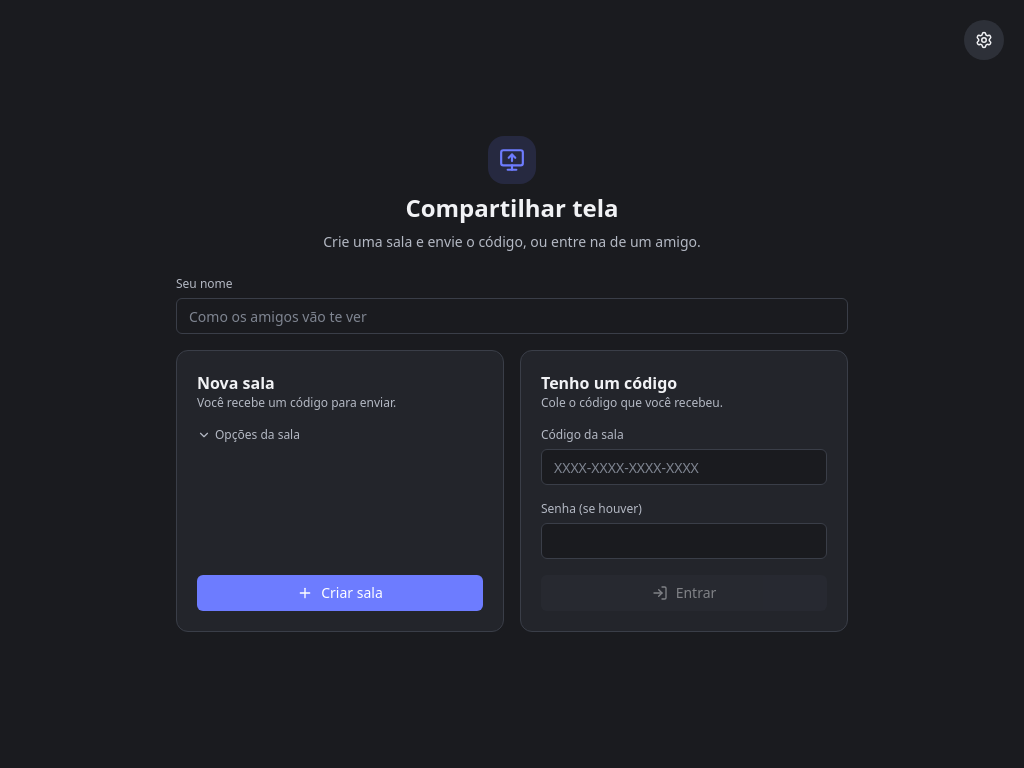
Scenario: endereço do servidor › mostra o erro quando o endereço é recusado
Click the button named "Configurações": (984, 40) [964,20,1004,60]
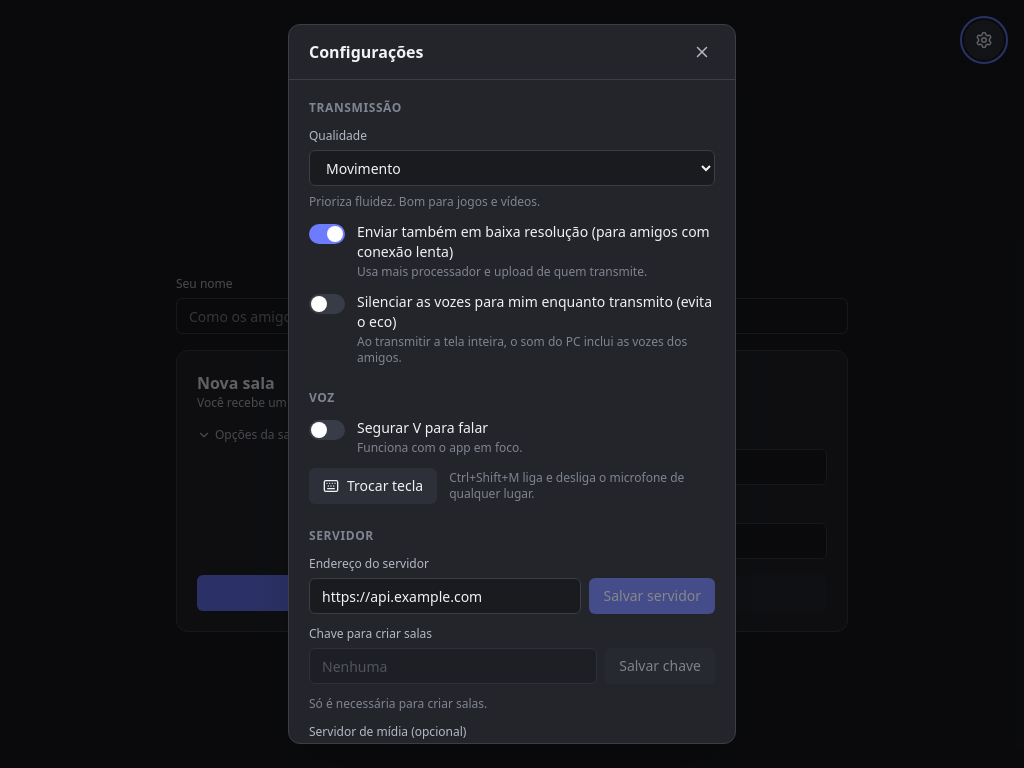
Replace the text in the field labelled "Endereço do servidor" with "ftp://x": (445, 596) [309,578,582,614]
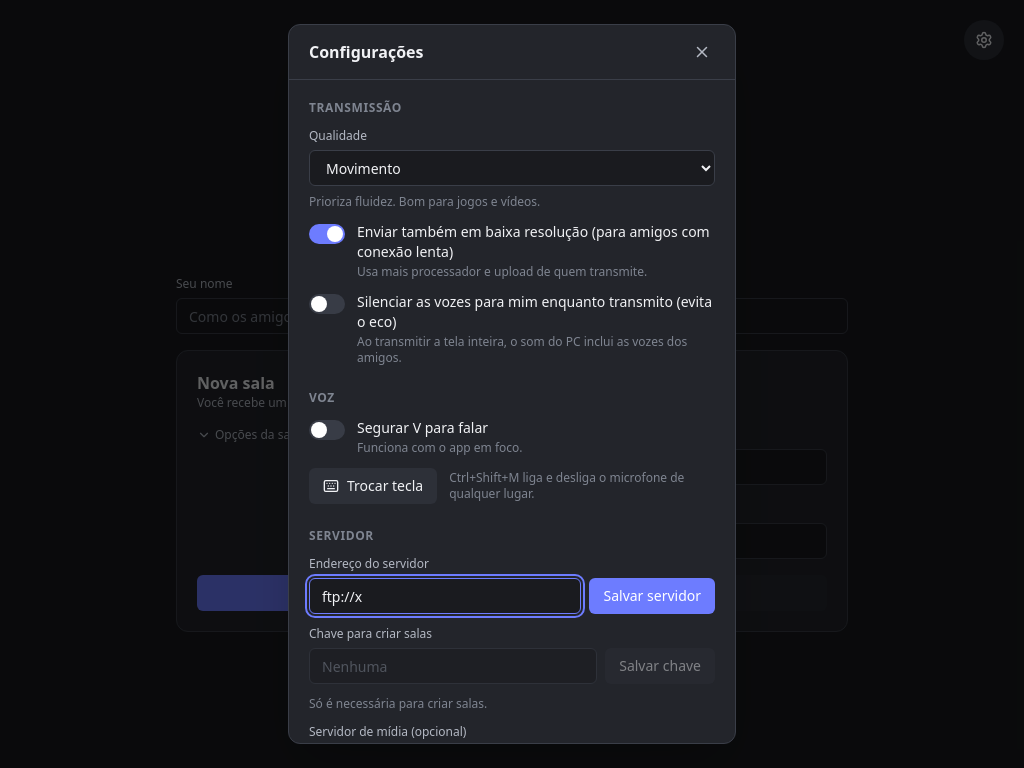
Click the button "Salvar servidor": (652, 596) [590,578,715,614]
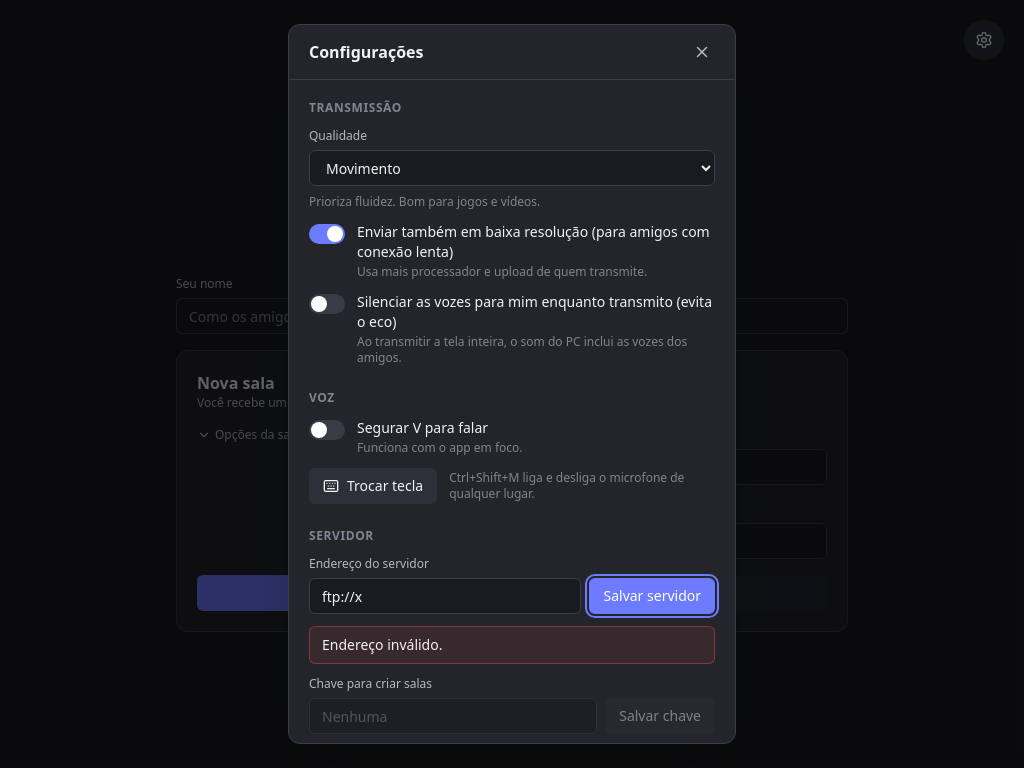
Expected: the message does not show "Error invoking", [309,626,715,664]
Expected: the message reads "Endereço inválido.", [322,635,442,654]
